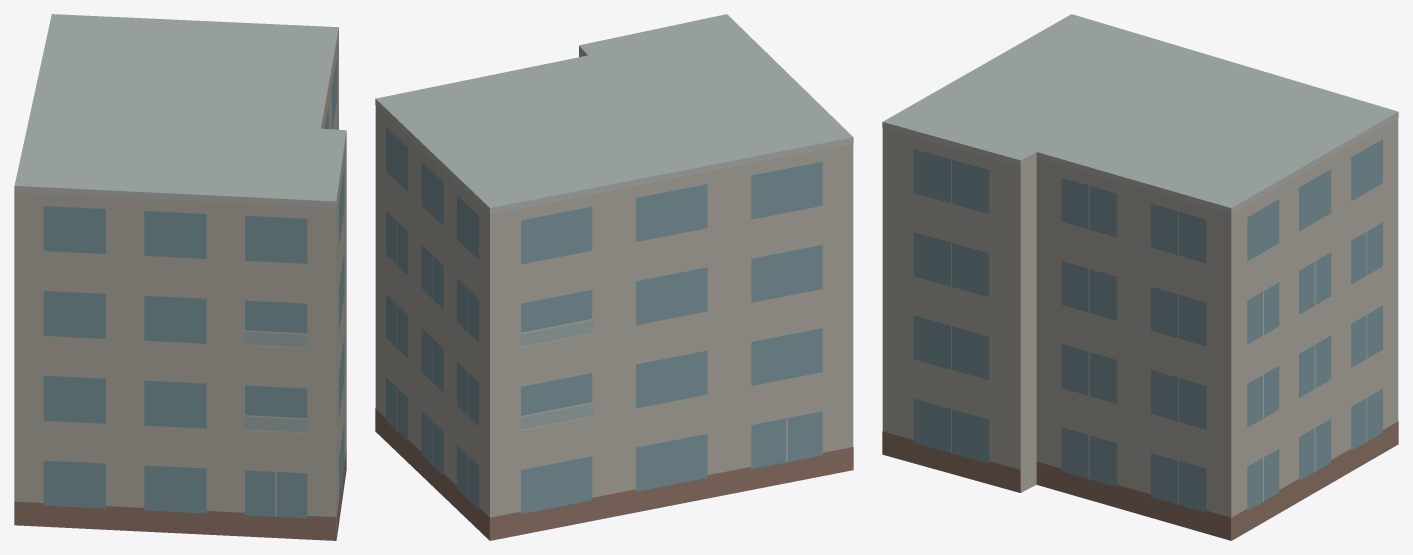
File: survey-upis-32865999.glb
3 views of the same model, side by side, from view 1: azimuth 30°, elevation 25°; view 2: azimuth 150°, elevation 25°; view 3: azimuth 270°, elevation 25° (orthographic). The views are drawn at different scales.
Parts seen in each view (by area): view 1: survey-upis-32865999.tmp; view 2: survey-upis-32865999.tmp; view 3: survey-upis-32865999.tmp.
Part boxes in pixels (x1,y1,x2,y2): survey-upis-32865999.tmp: (14, 14, 346, 540); survey-upis-32865999.tmp: (375, 14, 853, 540); survey-upis-32865999.tmp: (882, 14, 1398, 540).
Size of the model in its own units: 16.16 by 12.9 by 18.14.
